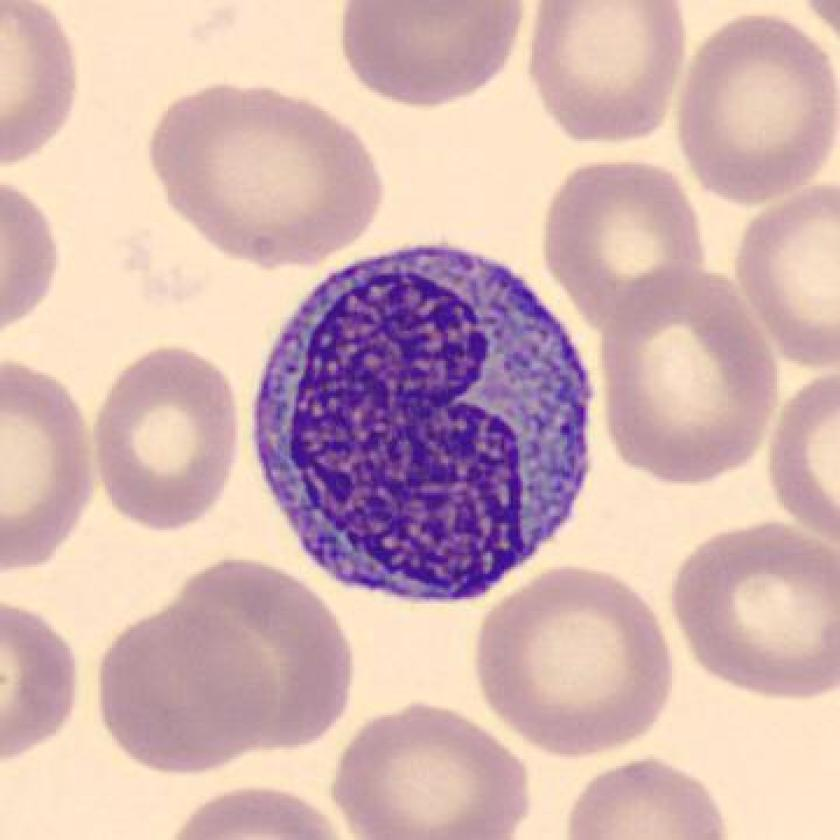monocyte: (239, 230, 619, 628)
